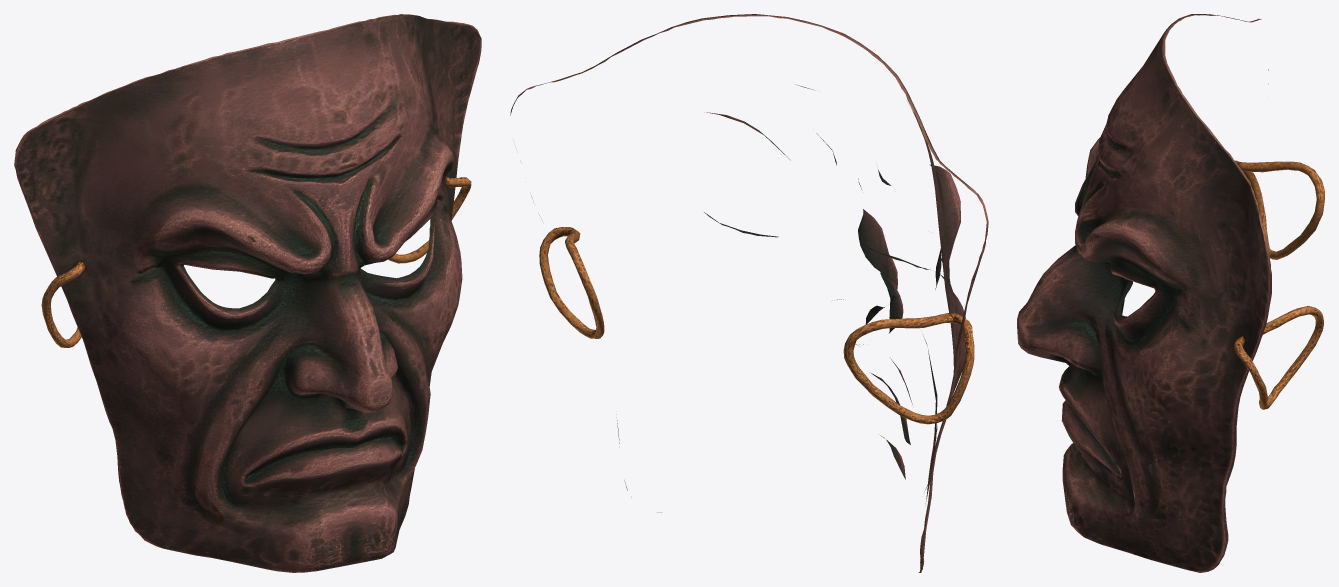
3 renders of one model, left to right at view 1: azimuth 30°, elevation 25°; view 2: azimuth 150°, elevation 25°; view 3: azimuth 270°, elevation 25°, orthographic. The views are drawn at different scales.
Parts seen in each view (by area): view 1: tripo_node_1f20d1a6-fe94-4c27-a2e1-34cc85c4be7e; view 2: tripo_node_1f20d1a6-fe94-4c27-a2e1-34cc85c4be7e; view 3: tripo_node_1f20d1a6-fe94-4c27-a2e1-34cc85c4be7e.
Part boxes in pixels (x1,y1,x2,y2): tripo_node_1f20d1a6-fe94-4c27-a2e1-34cc85c4be7e: (14,14,481,572); tripo_node_1f20d1a6-fe94-4c27-a2e1-34cc85c4be7e: (510,14,988,572); tripo_node_1f20d1a6-fe94-4c27-a2e1-34cc85c4be7e: (1017,14,1324,572).
Size of the model in its own units: 0.9746 by 0.998 by 0.5918.
Materials: 1 (1 with a texture image).
